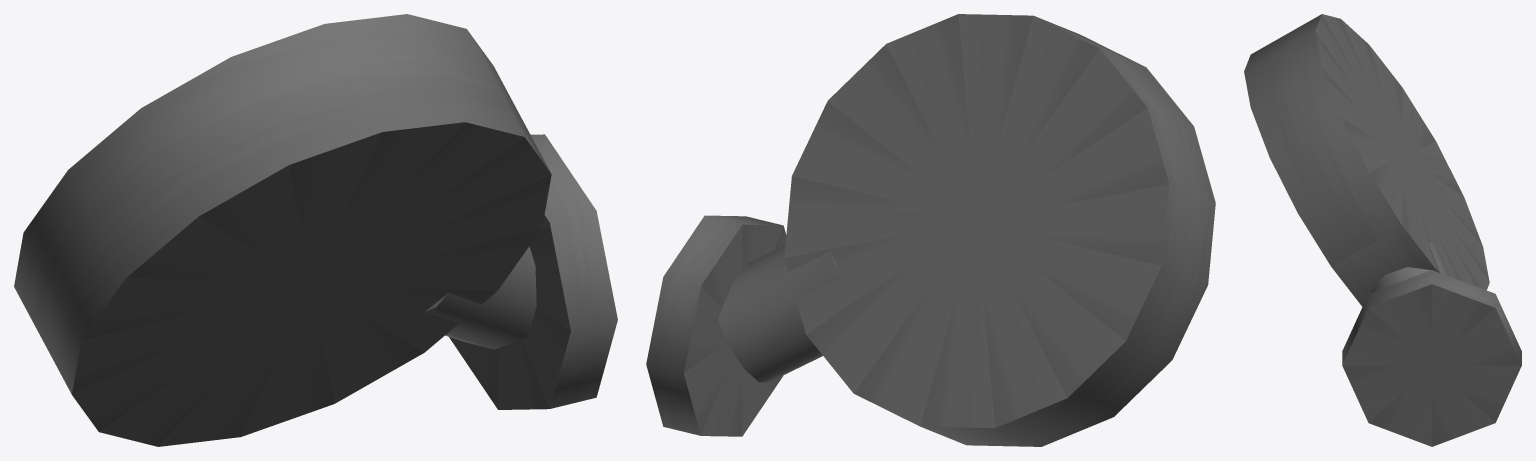
File: mastarmcurve_6x2_c0_east.obj
3 renders of one model, left to right at view 1: azimuth 30°, elevation 25°; view 2: azimuth 150°, elevation 25°; view 3: azimuth 270°, elevation 25°, orthographic. The views are drawn at different scales.
Parts seen in each view (by area): view 1: mastarm_6x2_c0_east; view 2: mastarm_6x2_c0_east; view 3: mastarm_6x2_c0_east.
Part boxes in pixels (x1=…): mastarm_6x2_c0_east: x1=14, y1=14, x2=617, y2=446; mastarm_6x2_c0_east: x1=646, y1=14, x2=1215, y2=446; mastarm_6x2_c0_east: x1=1244, y1=14, x2=1521, y2=446.
Size of the model in its own units: 0.8644 by 0.7887 by 0.6185.
